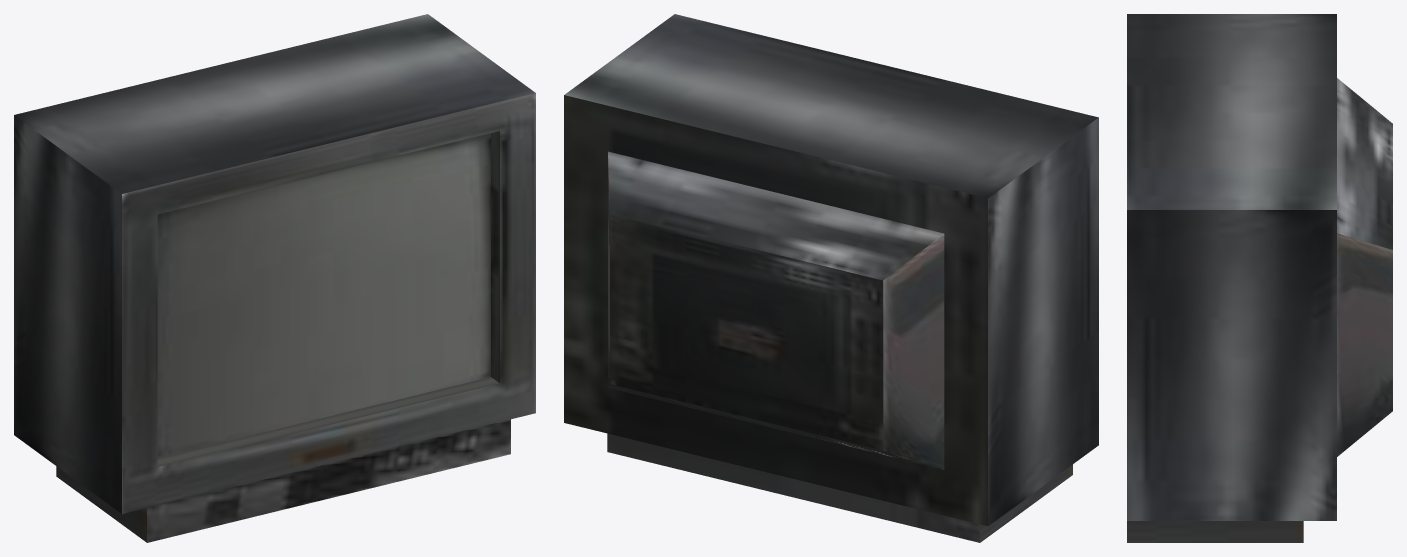
File: CRT_TV.FBX
3 renders of one model, left to right at view 1: azimuth 30°, elevation 25°; view 2: azimuth 150°, elevation 25°; view 3: azimuth 270°, elevation 25°, orthographic. The views are drawn at different scales.
Visible parts, largest first — view 1: TV; view 2: TV; view 3: TV.
Part boxes in pixels (x1,y1,x2,y2): TV: (14, 14, 535, 542); TV: (564, 14, 1098, 542); TV: (1127, 14, 1392, 542).
Bounding box in the file's own units: 44.09 × 36.13 × 25.24.
